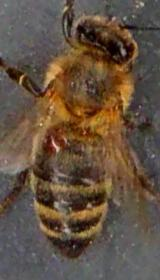varroa_mite: (33, 133, 77, 156)
